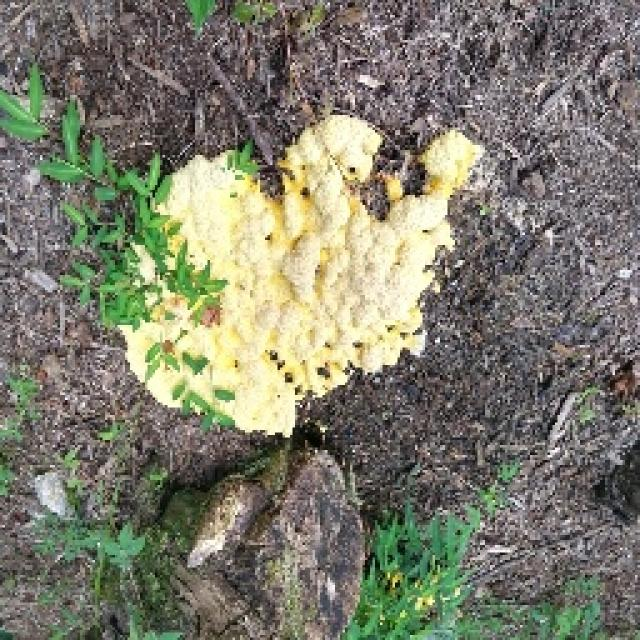Dog_vomit_slime_mold: (80, 108, 512, 451)
